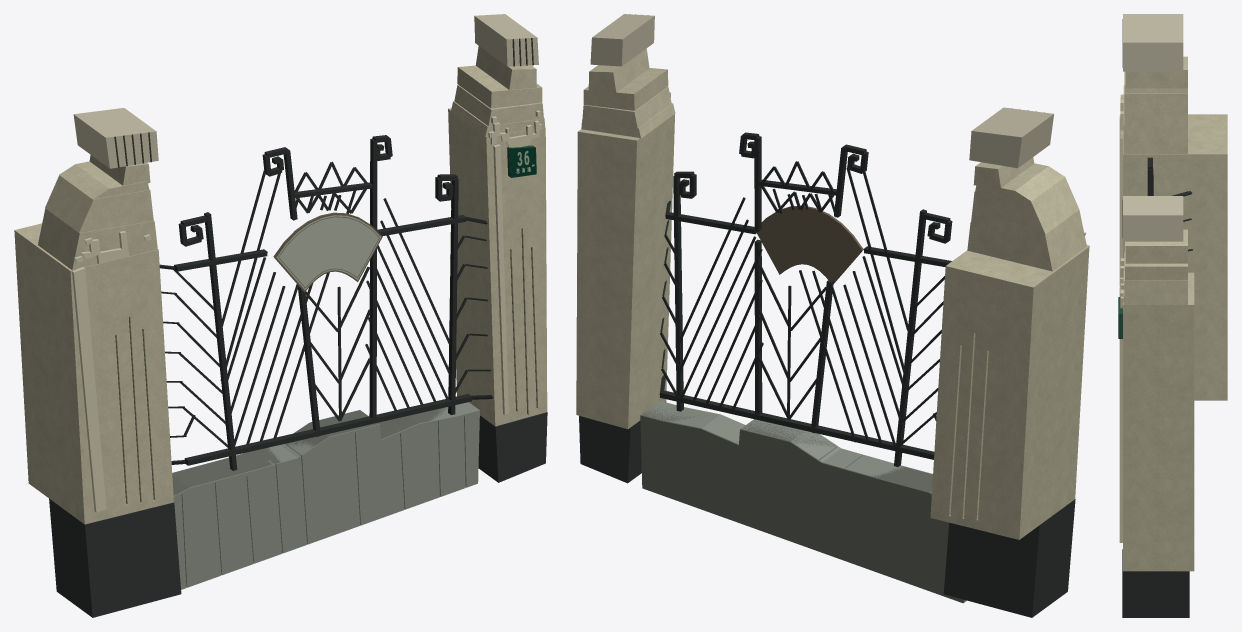
Rendered from huangpu-sinan-road-36-lattice-side-gate-lod.glb.
The picture shows the model from 3 angles, left to right: view 1: azimuth 30°, elevation 25°; view 2: azimuth 150°, elevation 25°; view 3: azimuth 270°, elevation 25°; orthographic projection. The views are drawn at different scales.
Parts seen in each view (by area): view 1: 思南路36号边门的错台门柱与几何铁栏; view 2: 思南路36号边门的错台门柱与几何铁栏; view 3: 思南路36号边门的错台门柱与几何铁栏.
Boxes of the visible parts, <box> form: 思南路36号边门的错台门柱与几何铁栏: <box>14,14,547,617</box>; 思南路36号边门的错台门柱与几何铁栏: <box>576,14,1089,617</box>; 思南路36号边门的错台门柱与几何铁栏: <box>1118,14,1227,617</box>.
Size of the model in its own units: 3.24 by 3.15 by 0.6895.
14 materials, 1 textured.
